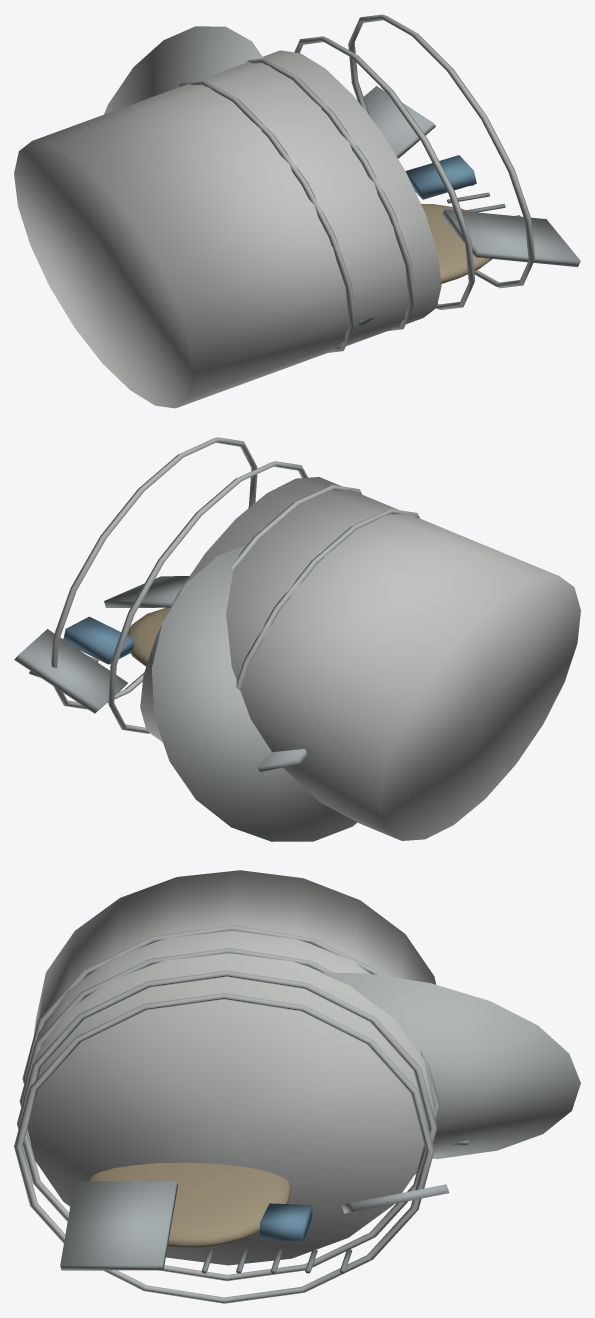
The model's file is grain-silo-wreck.glb.
3 renders of one model, top to bottom at view 1: azimuth 30°, elevation 25°; view 2: azimuth 150°, elevation 25°; view 3: azimuth 270°, elevation 25°, orthographic. The views are drawn at different scales.
Visible parts, largest first — view 1: grain-silo-wreck; view 2: grain-silo-wreck; view 3: grain-silo-wreck.
Boxes of the visible parts, x1=… form: grain-silo-wreck: x1=14, y1=14, x2=580, y2=408; grain-silo-wreck: x1=14, y1=437, x2=580, y2=841; grain-silo-wreck: x1=14, y1=870, x2=580, y2=1303.
Bounding box in the file's own units: 8.86 × 5.75 × 8.93.
